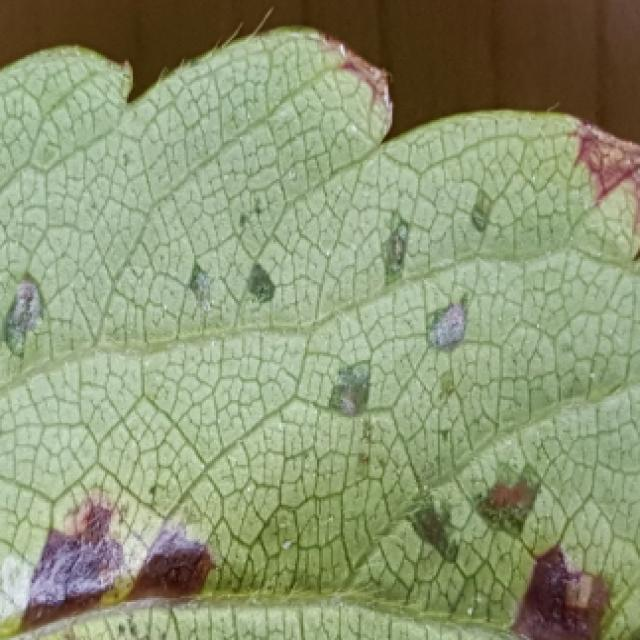Angular Leafspot: (0, 31, 640, 640)
